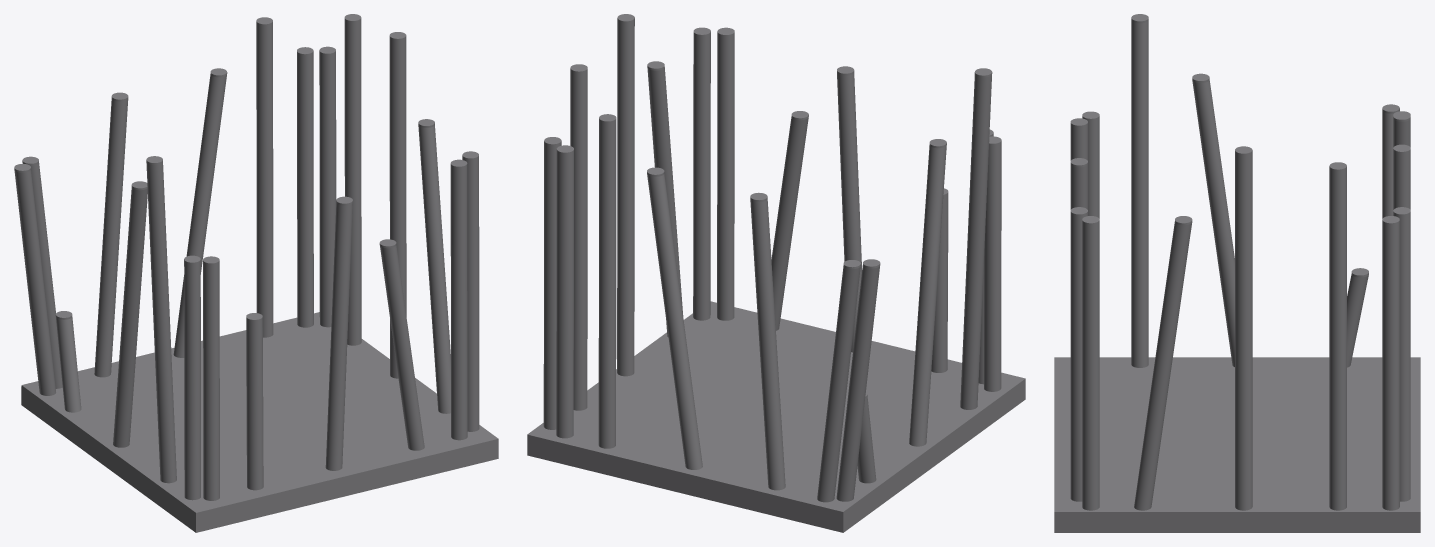
Rendered from cage_after.fbx.
3 renders of one model, left to right at view 1: azimuth 30°, elevation 25°; view 2: azimuth 150°, elevation 25°; view 3: azimuth 270°, elevation 25°, orthographic. The views are drawn at different scales.
Parts seen in each view (by area): view 1: Cylinder; view 2: Cylinder; view 3: Cylinder.
Part boxes in pixels (x1,y1,x2,y2): Cylinder: (14,14,498,532); Cylinder: (527,14,1025,532); Cylinder: (1054,14,1420,532).
Bounding box in the file's own units: 398 × 425 × 373.
